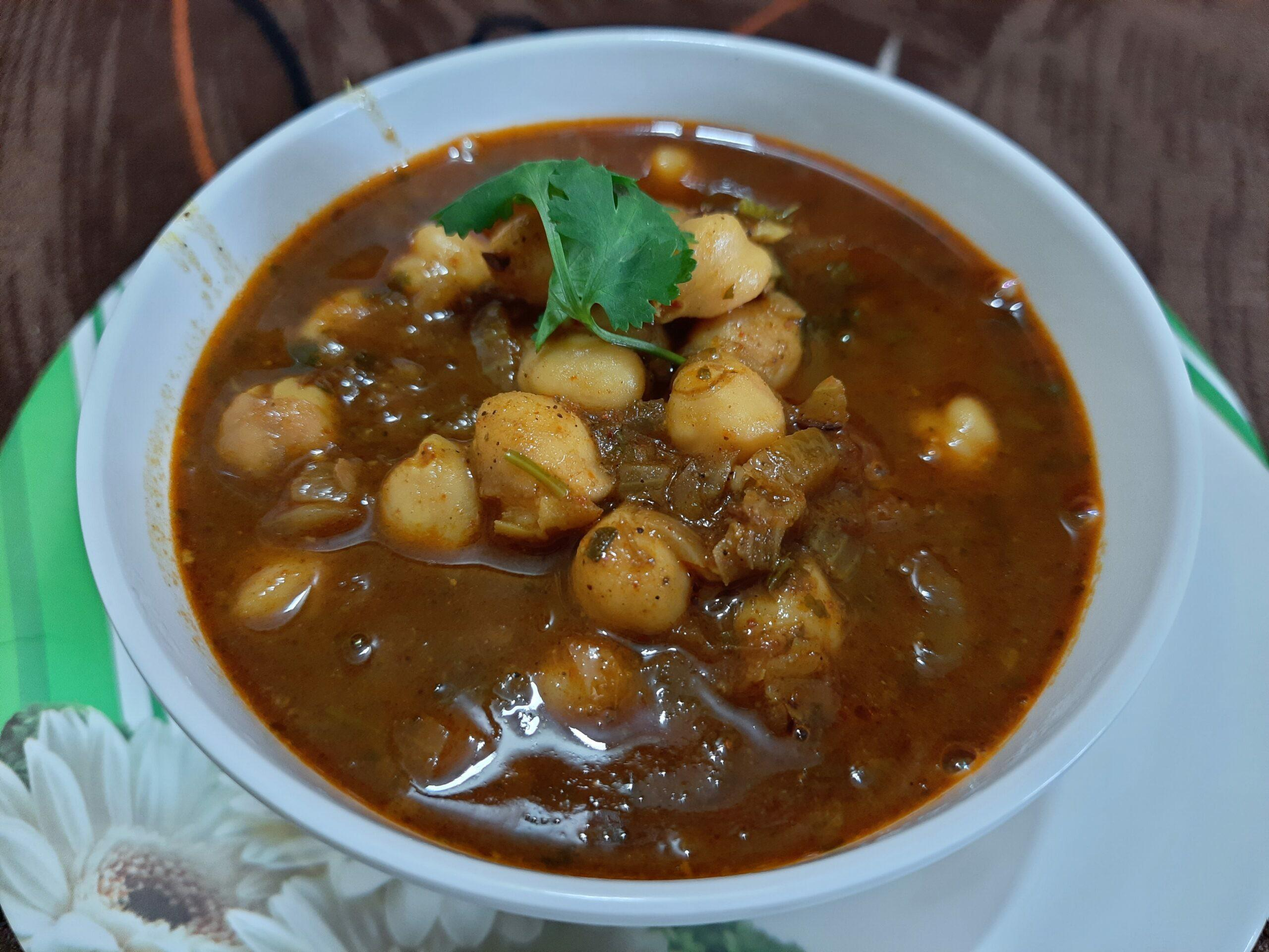Chole: (172, 116, 1104, 881)
